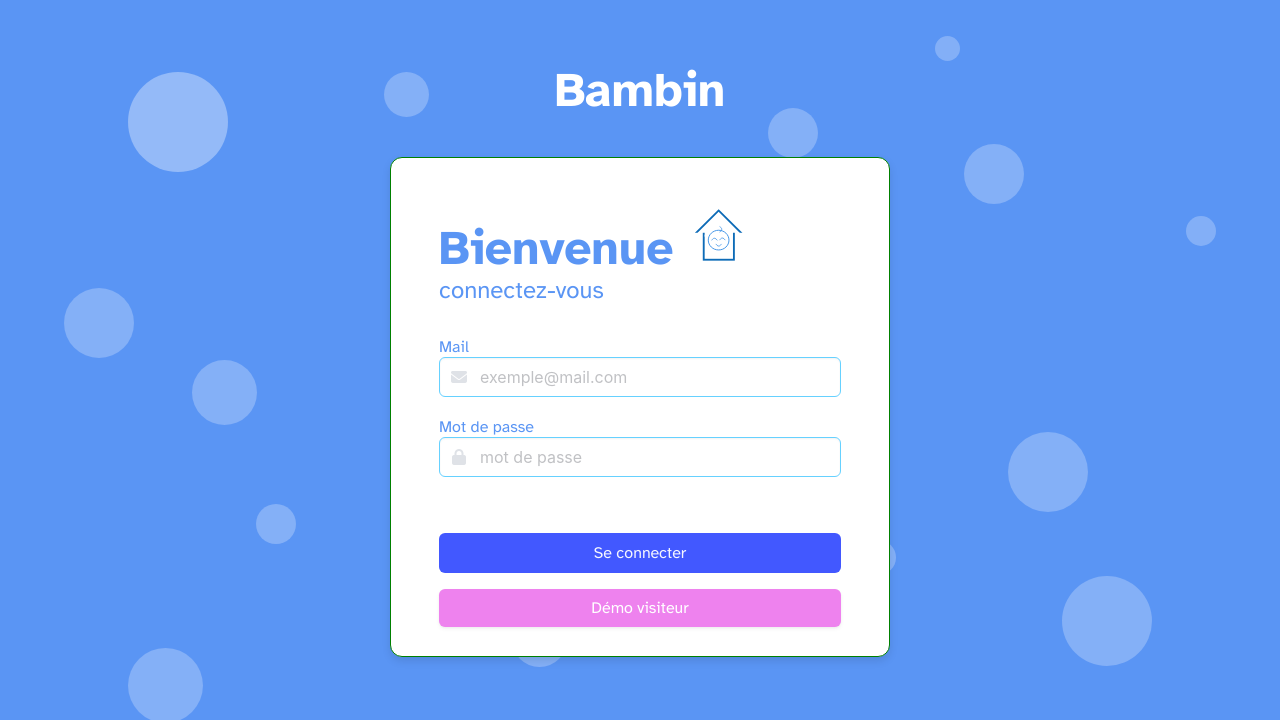
Test: login.vue › affiche une erreur si la connexion démo échoue
The width and height of the screenshot is (1280, 720).
Step 1. Click the button "Démo visiteur" → (640, 608), box [439, 589, 841, 627]
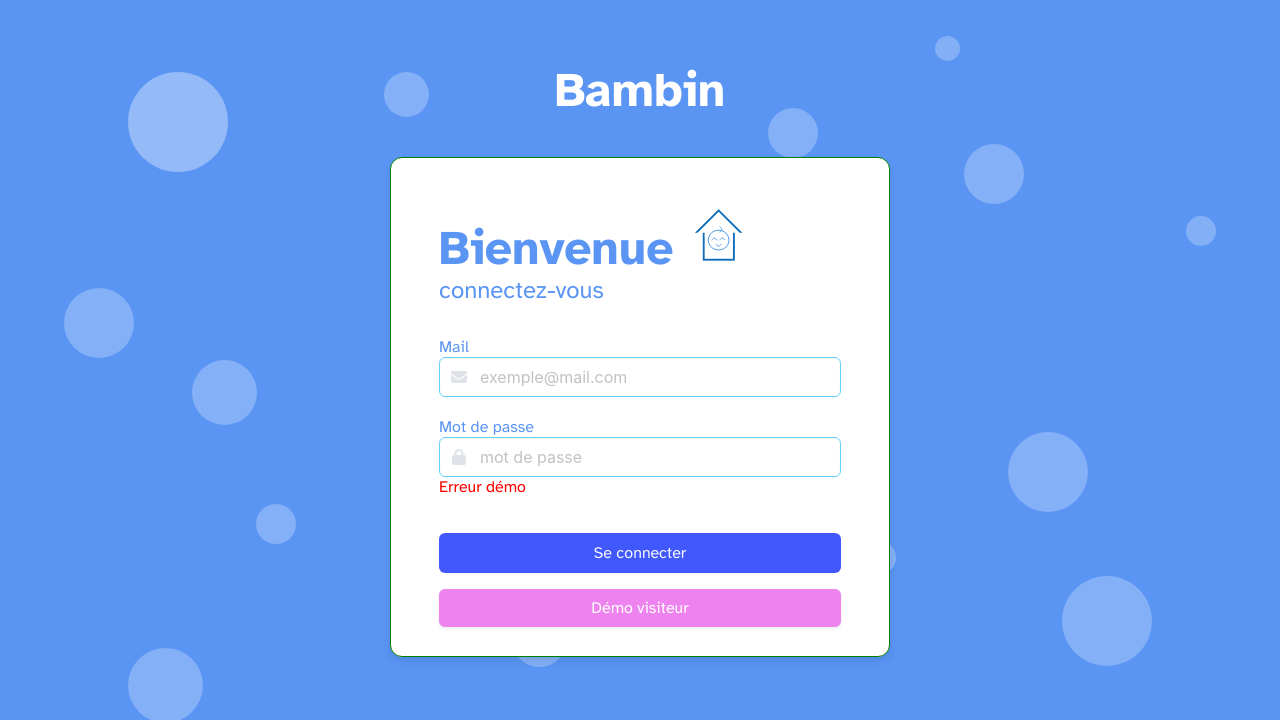
Now the text "Erreur démo" is shown, box [439, 477, 526, 497]
